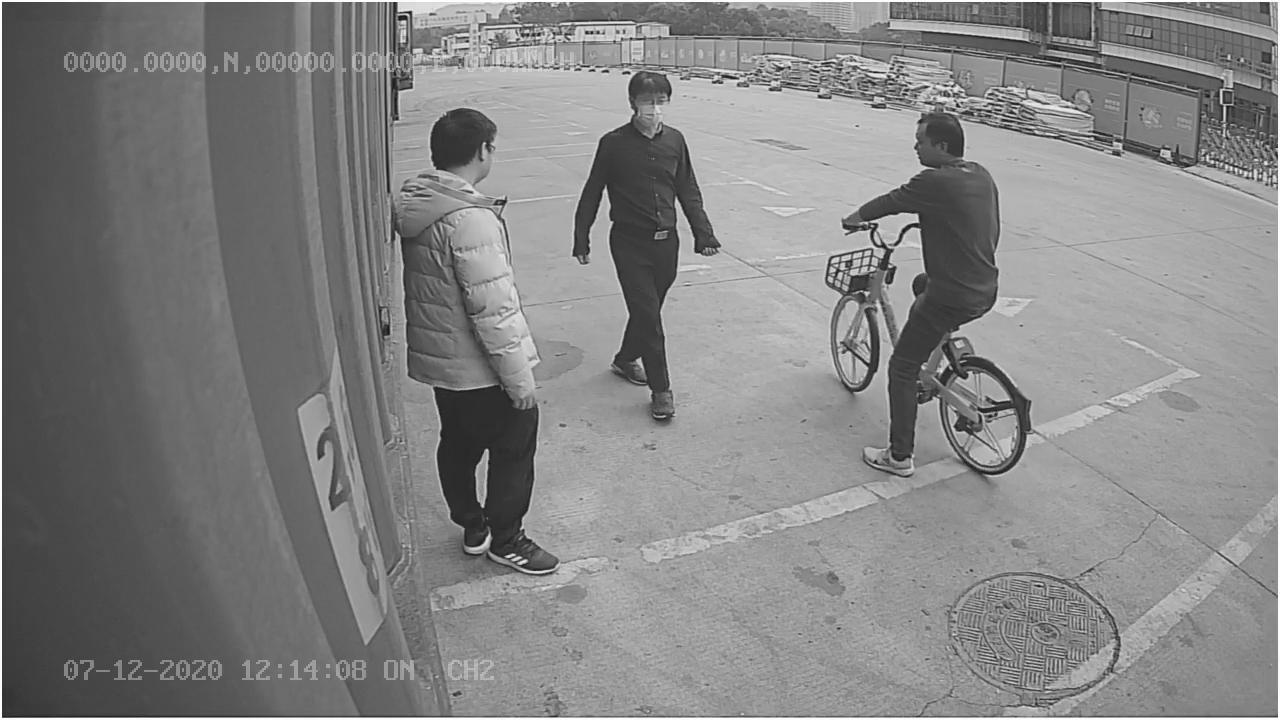person: (574, 64, 724, 421)
